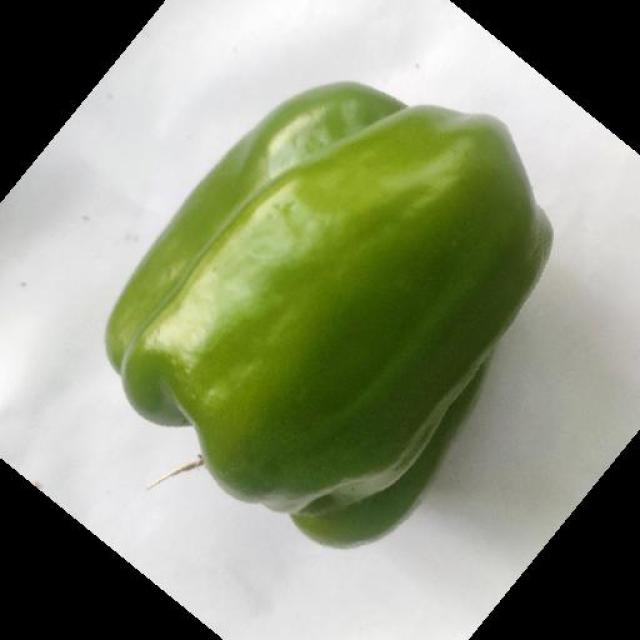Fresh_Capsicum: (138, 63, 520, 504)
